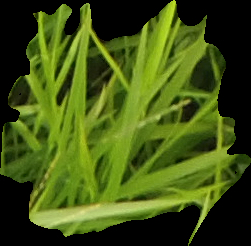grass: (1, 1, 249, 244)
